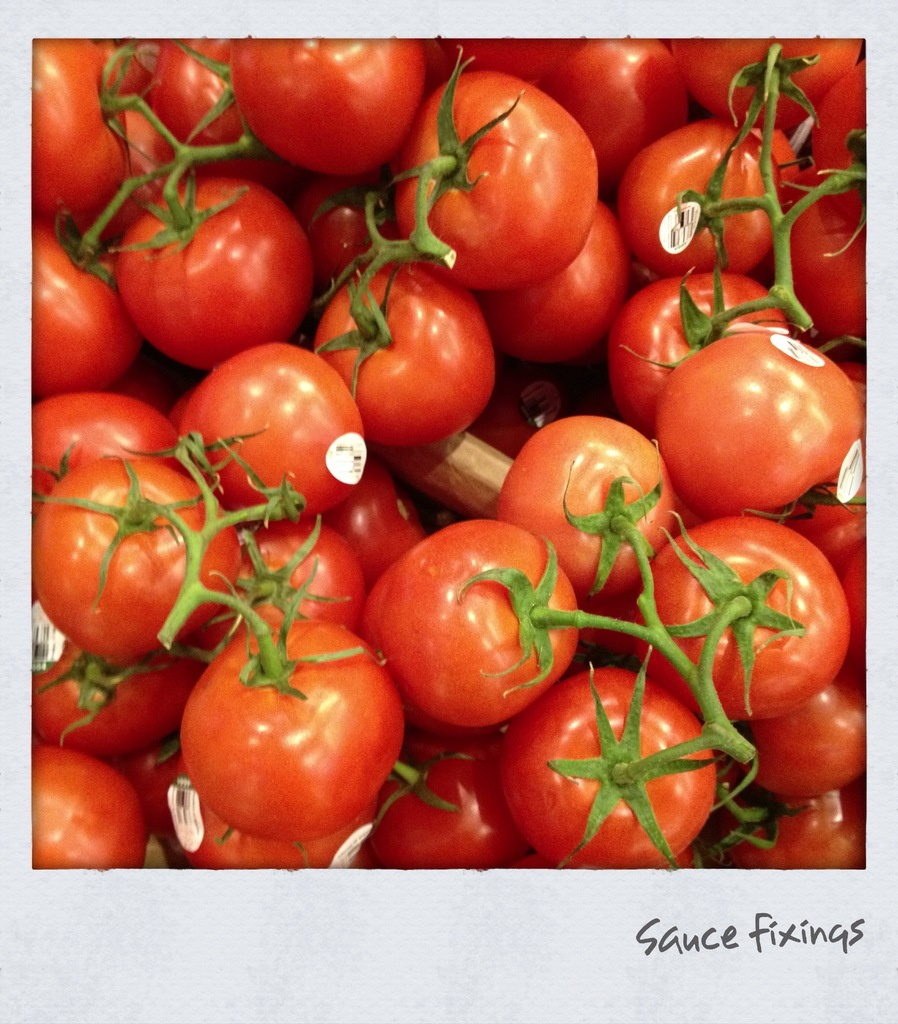Tomato: (31, 38, 866, 869)
